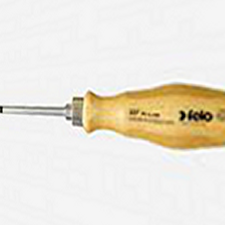Screwdriver: (1, 79, 225, 162)
